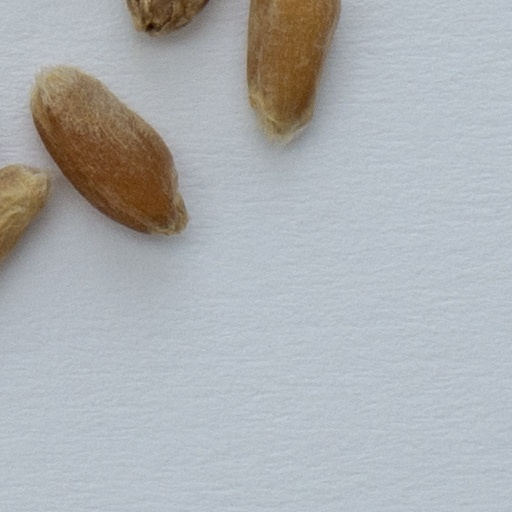Wheat-grain-poly: (128, 0, 210, 37)
